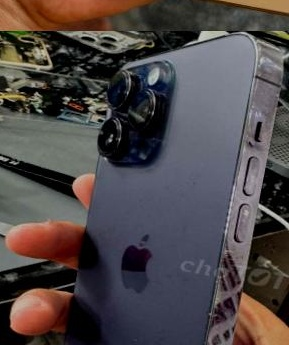scratch: (201, 104, 276, 328), (254, 45, 289, 90), (123, 123, 148, 150), (114, 101, 132, 114)
